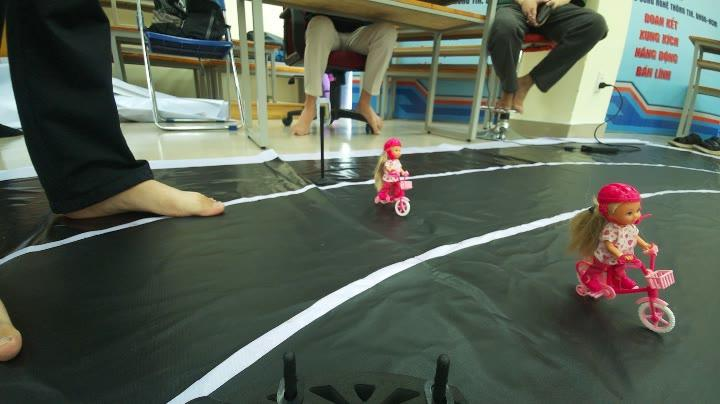pedestrian: (569, 161, 688, 340), (371, 133, 422, 225)
